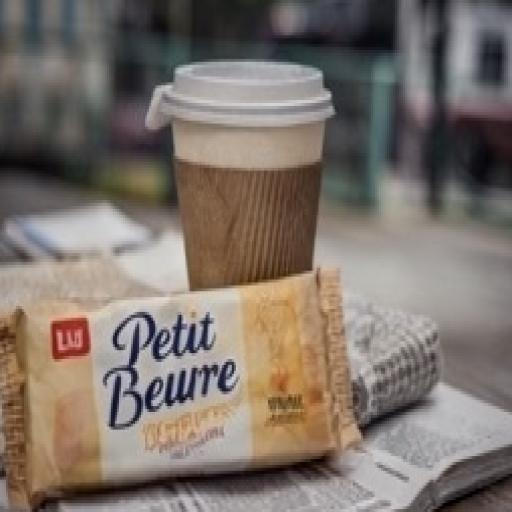petit-beurre: (0, 274, 383, 488)
